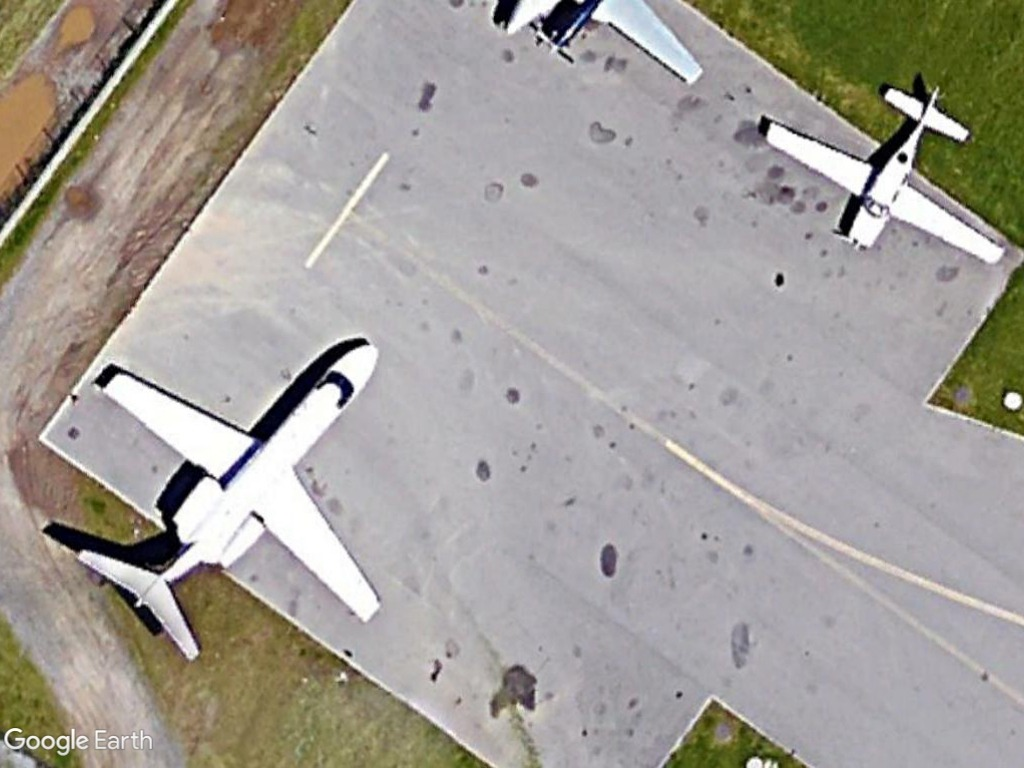chartered: (60, 323, 387, 666)
trainer: (750, 75, 1012, 274)
